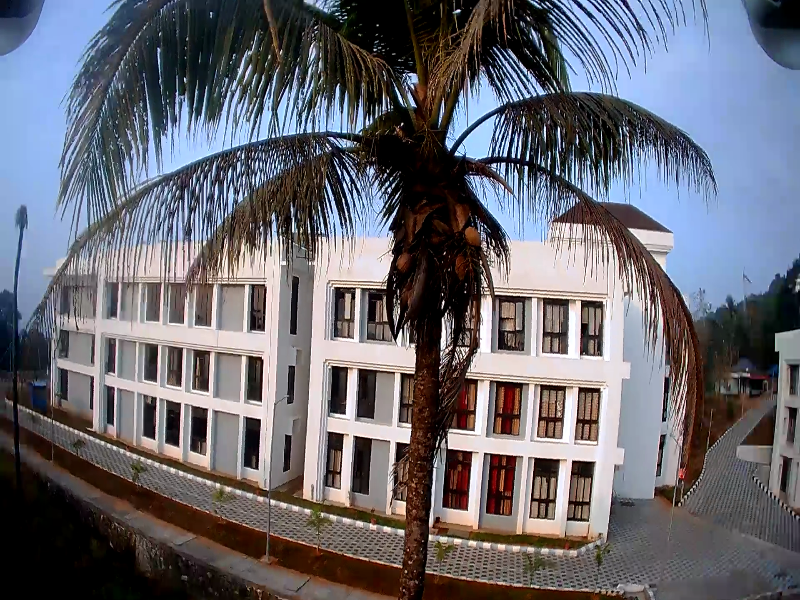coconut: (460, 219, 481, 244), (455, 250, 468, 281), (399, 248, 409, 277)
